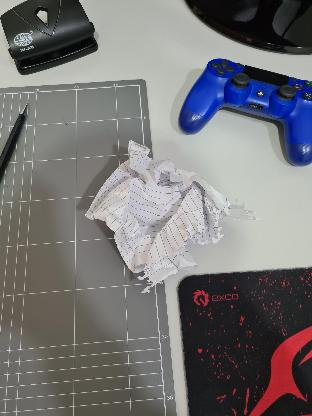Paper: (86, 138, 250, 282)
